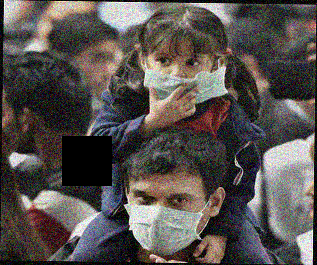with_mask: (128, 188, 206, 255), (147, 51, 216, 105)
